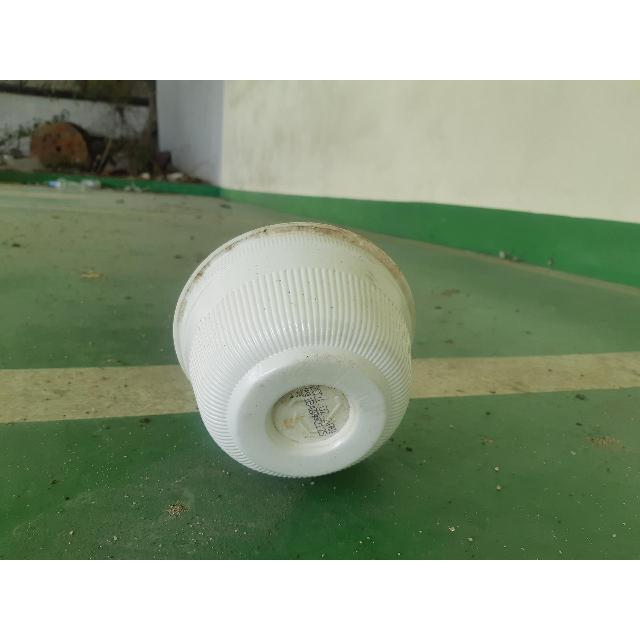Recipiente plastico: (174, 222, 415, 477)
